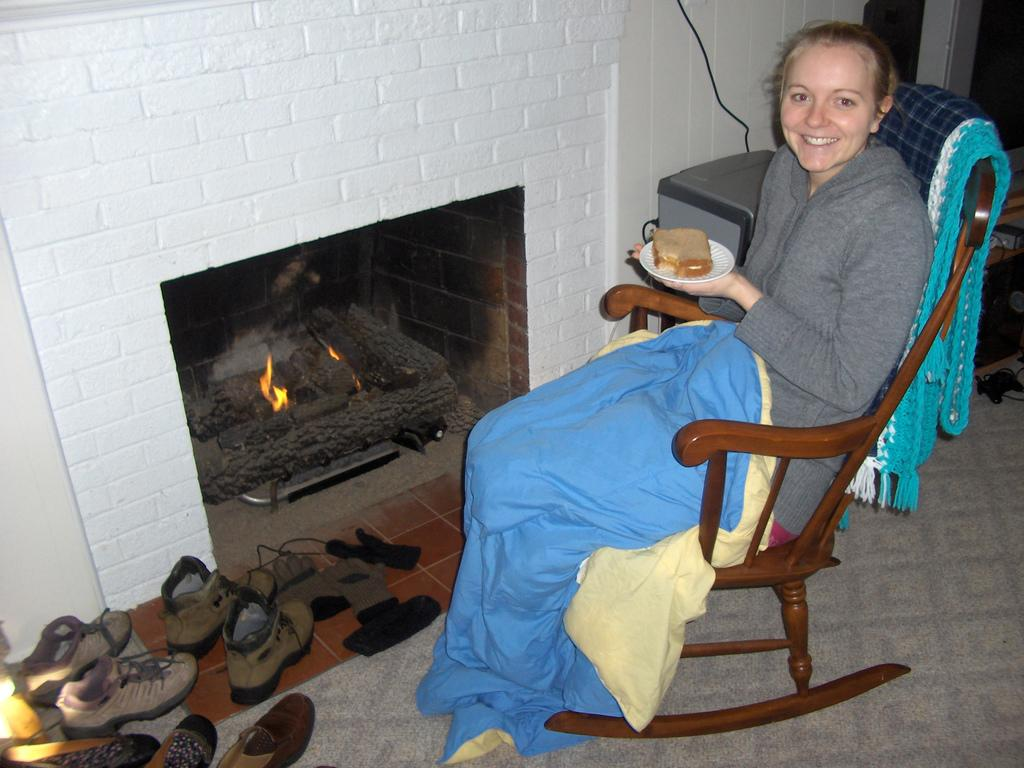Fire: (255, 340, 371, 430)
